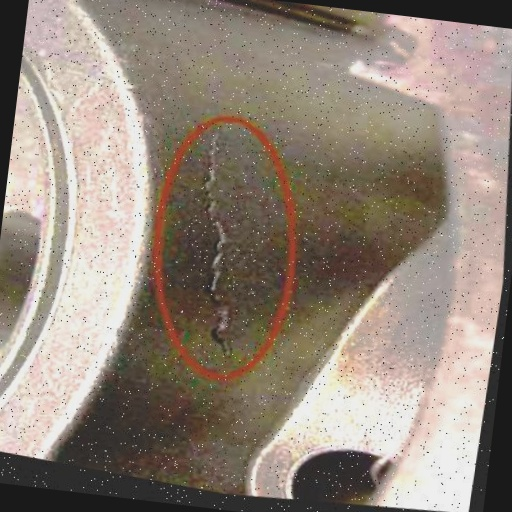crack: (163, 112, 272, 369)
